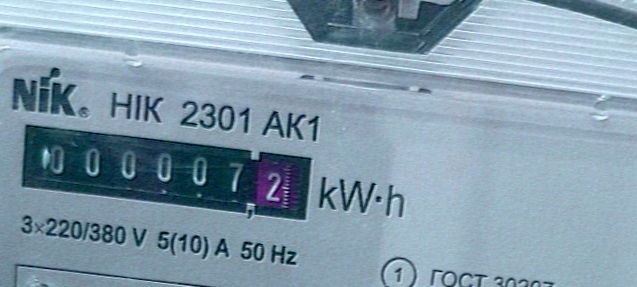0: (115, 143, 142, 184), (186, 150, 212, 189), (44, 139, 70, 177), (152, 148, 177, 187), (81, 142, 105, 179)
2: (261, 167, 286, 205)
7: (222, 156, 247, 196)
screen: (11, 113, 323, 230)
